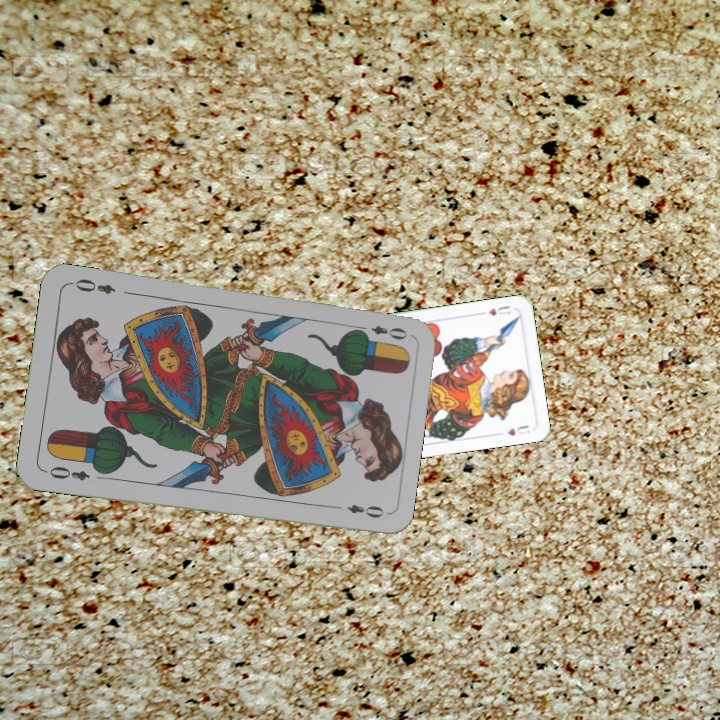EO: (352, 321, 410, 342), (40, 462, 92, 484)
HU: (476, 301, 513, 318)
